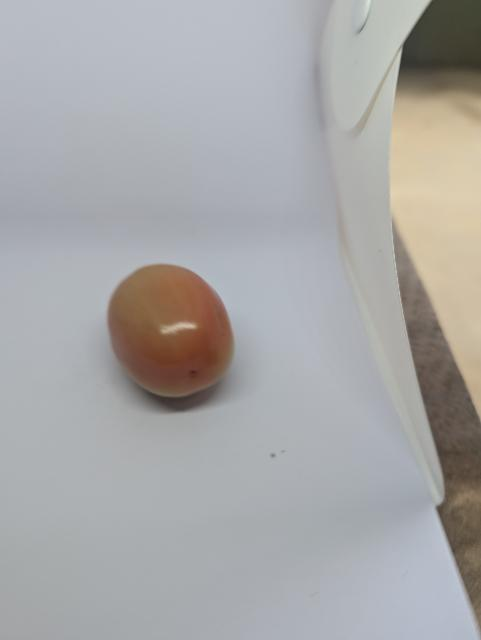turning: (103, 258, 237, 407)
